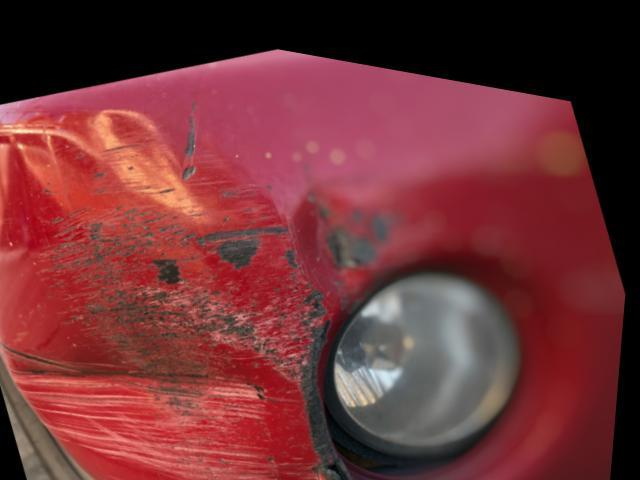dent: (78, 303, 255, 420)
scratch: (5, 125, 374, 480)
